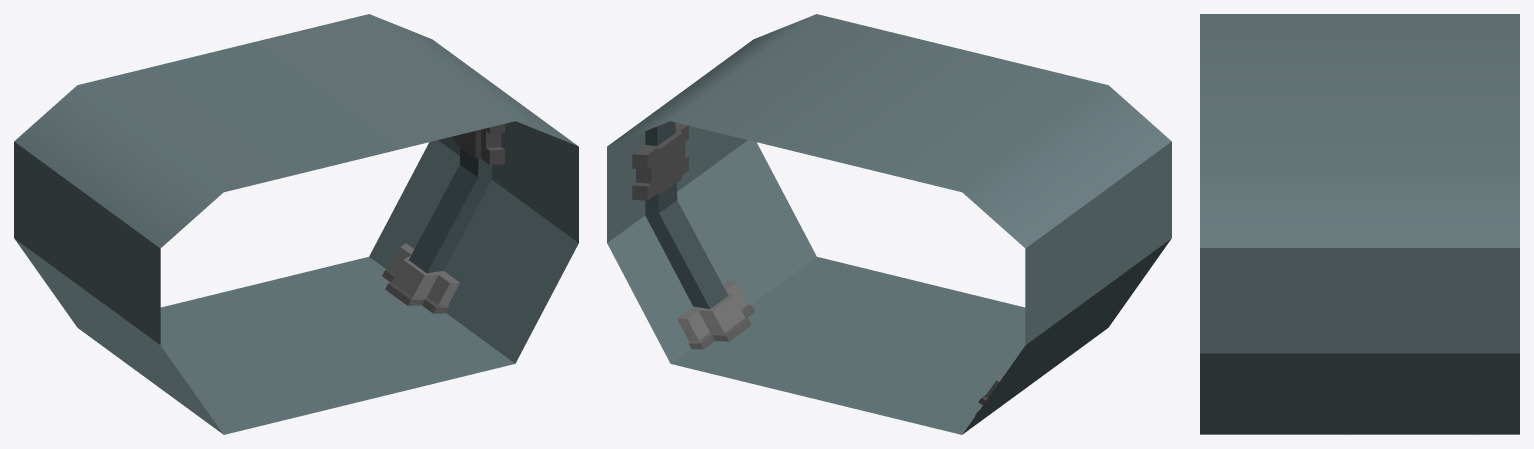
File: SM_wall_extrude_2.fbx
The picture shows the model from 3 angles, left to right: view 1: azimuth 30°, elevation 25°; view 2: azimuth 150°, elevation 25°; view 3: azimuth 270°, elevation 25°; orthographic projection. The views are drawn at different scales.
Parts seen in each view (by area): view 1: SM_wall_extrude_2; view 2: SM_wall_extrude_2; view 3: SM_wall_extrude_2.
Boxes of the visible parts, x1,y1,x2,y2 form: SM_wall_extrude_2: [14, 14, 578, 434]; SM_wall_extrude_2: [607, 14, 1171, 434]; SM_wall_extrude_2: [1200, 14, 1519, 434].
Bounding box in the file's own units: 495 × 275 × 300.
1 material, 1 textured.
